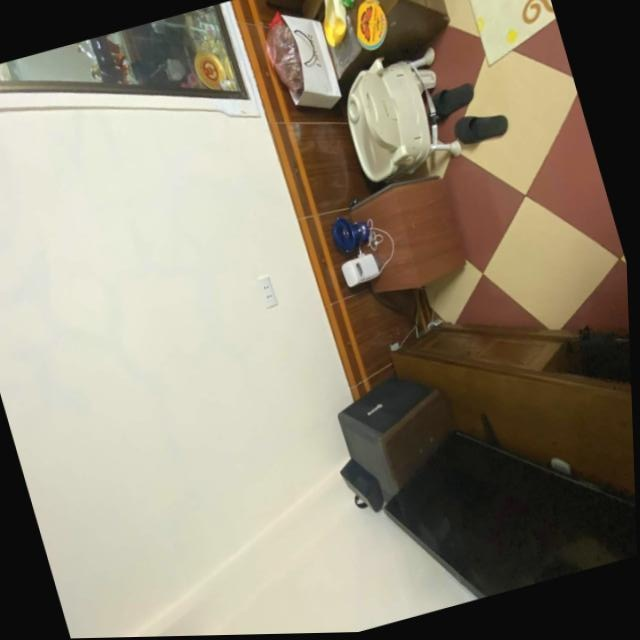outlet: (256, 276, 278, 310)
